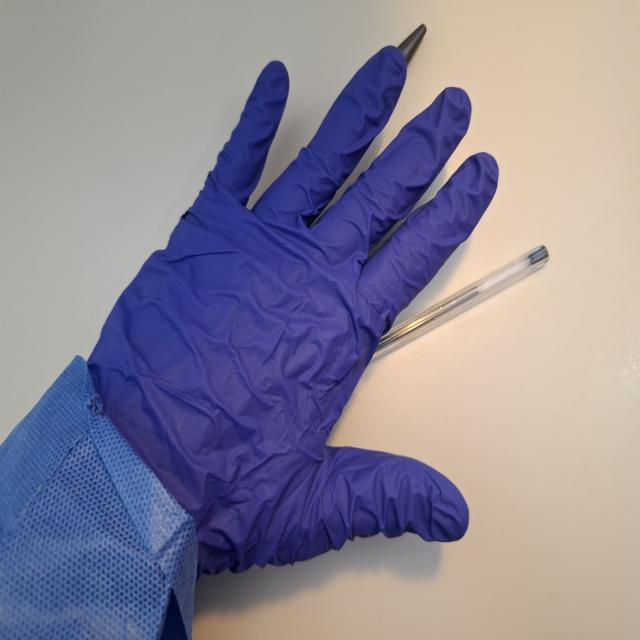glove_on: (80, 43, 504, 577)
